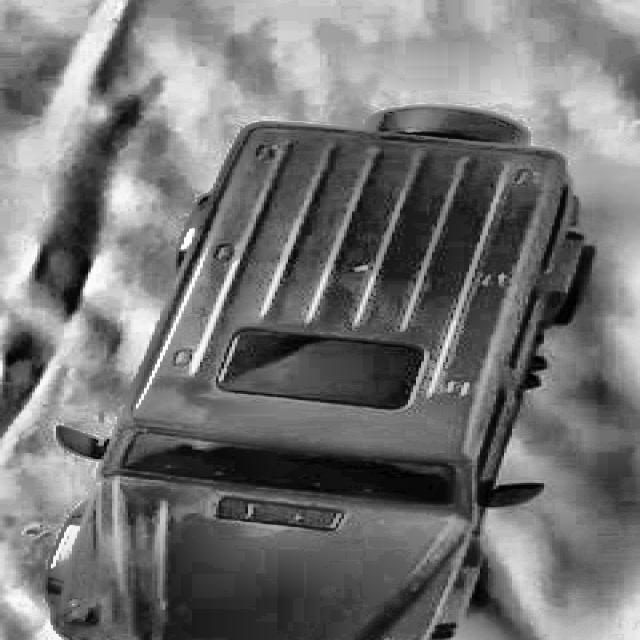light_vehicle: (0, 95, 595, 640)
